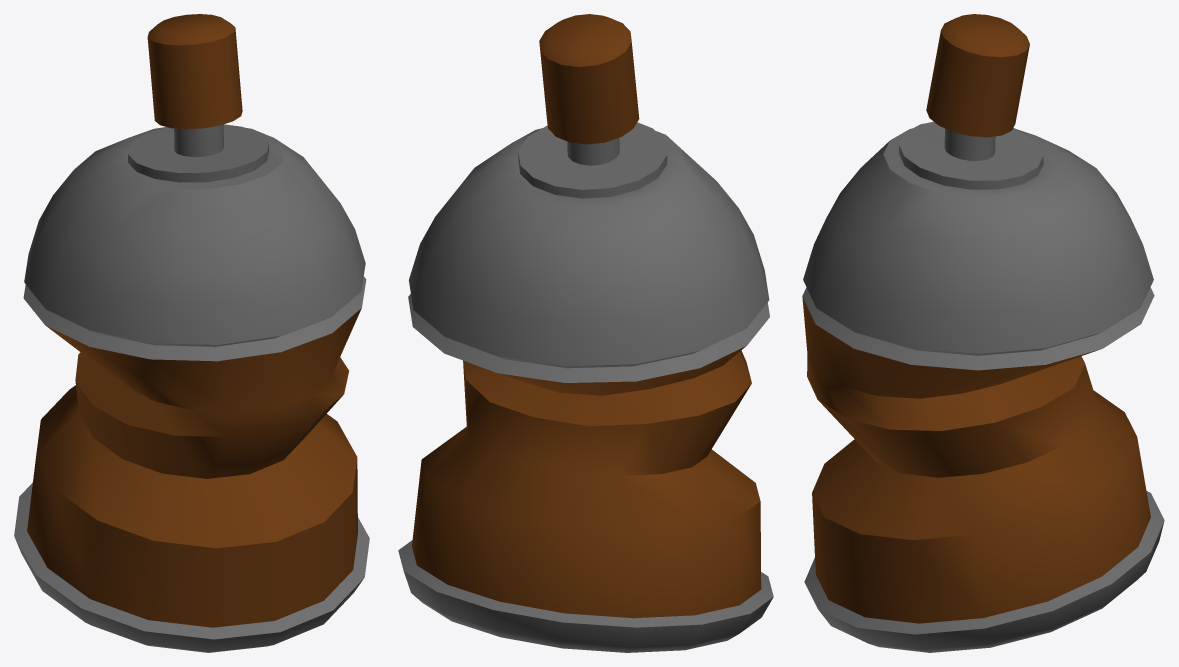
The model's file is Spray_04.fbx.
3 renders of one model, left to right at view 1: azimuth 30°, elevation 25°; view 2: azimuth 150°, elevation 25°; view 3: azimuth 270°, elevation 25°, orthographic. The views are drawn at different scales.
Parts seen in each view (by area): view 1: Spray_04; view 2: Spray_04; view 3: Spray_04.
Boxes of the visible parts, x1,y1,x2,y2 form: Spray_04: [14, 14, 369, 652]; Spray_04: [398, 14, 773, 652]; Spray_04: [802, 14, 1164, 652].
Bounding box in the file's own units: 28.13 × 49.29 × 27.79.
